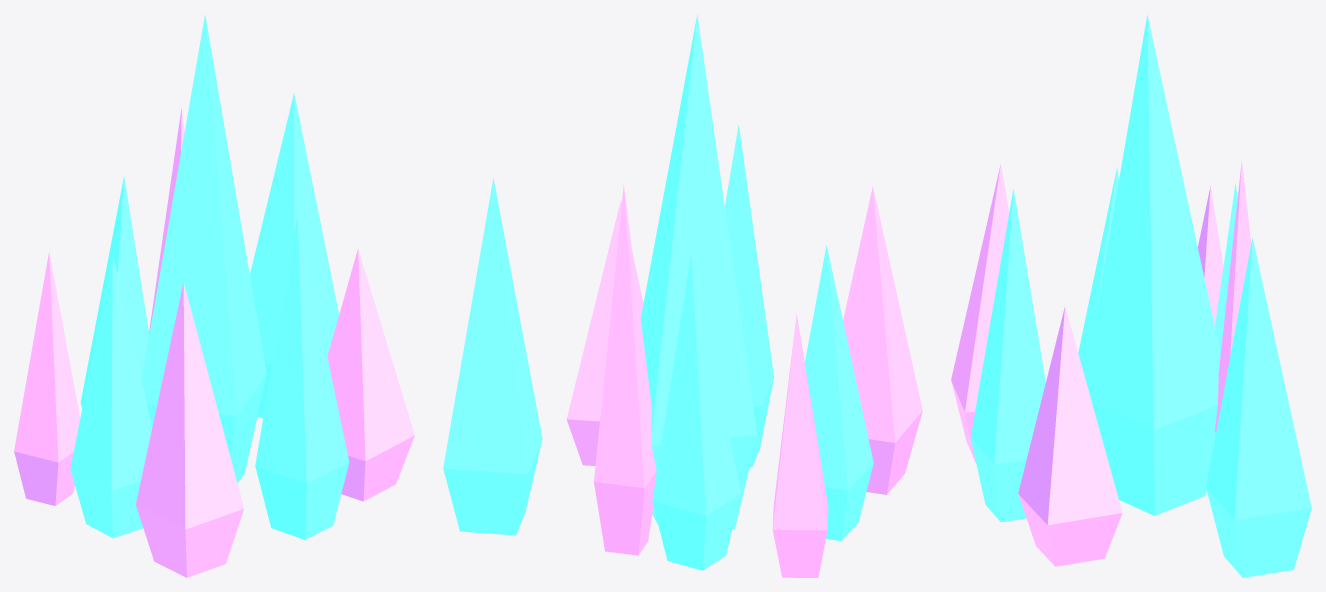
Rendered from sonnenhafen_biolum_cavern_crystals_mobile.glb.
The picture shows the model from 3 angles, left to right: view 1: azimuth 30°, elevation 25°; view 2: azimuth 150°, elevation 25°; view 3: azimuth 270°, elevation 25°; orthographic projection. The views are drawn at different scales.
Parts seen in each view (by area): view 1: sonnenhafen_biolum_cavern_crystals; view 2: sonnenhafen_biolum_cavern_crystals; view 3: sonnenhafen_biolum_cavern_crystals.
Boxes of the visible parts, x1,y1,x2,y2 form: sonnenhafen_biolum_cavern_crystals: [14, 14, 414, 577]; sonnenhafen_biolum_cavern_crystals: [443, 15, 922, 577]; sonnenhafen_biolum_cavern_crystals: [951, 14, 1311, 577].
Size of the model in its own units: 3.16 by 4.2 by 2.86.
